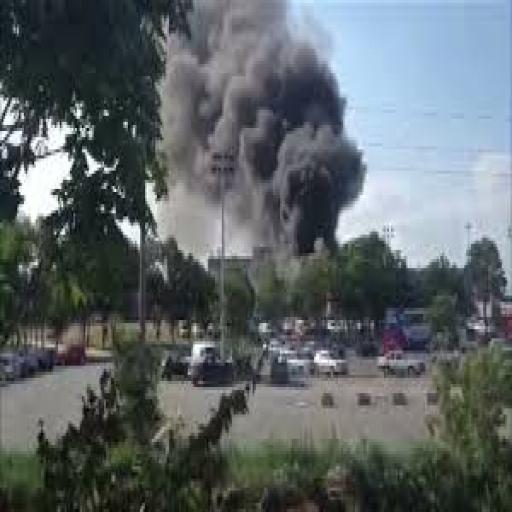smoke: (172, 6, 358, 250)
